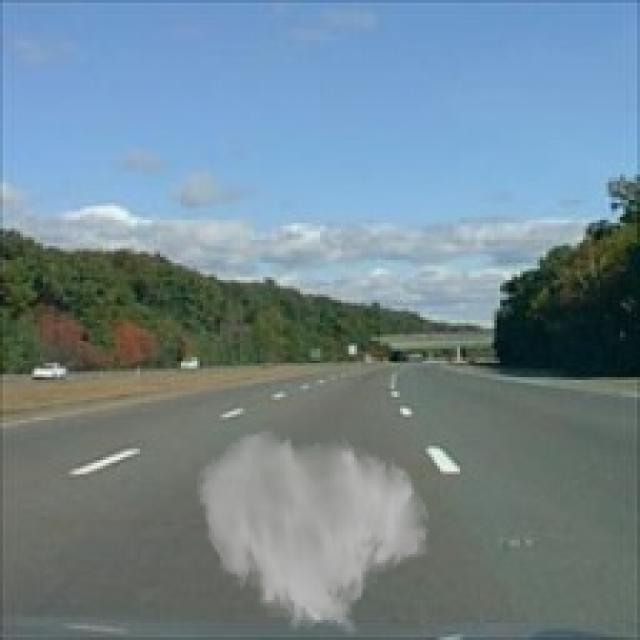smoke: (195, 429, 432, 637)
